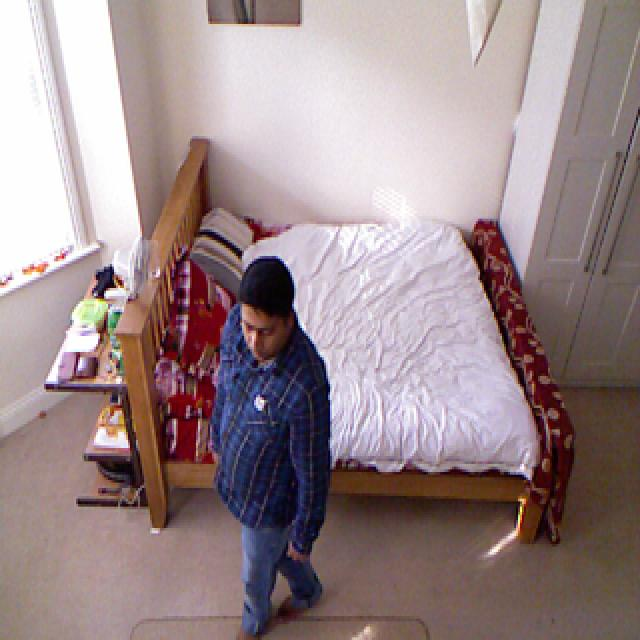standing: (209, 250, 330, 640)
